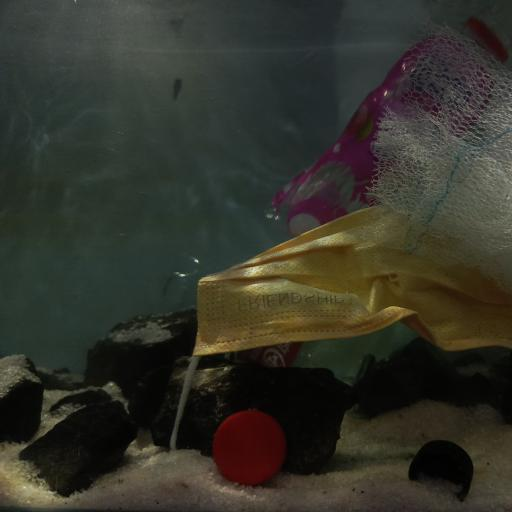bottle_cap: (212, 410, 286, 484), (408, 440, 474, 501)
mask: (185, 203, 512, 375)
net: (357, 13, 512, 301)
plastic_bottle: (268, 6, 512, 232), (156, 249, 375, 383)
